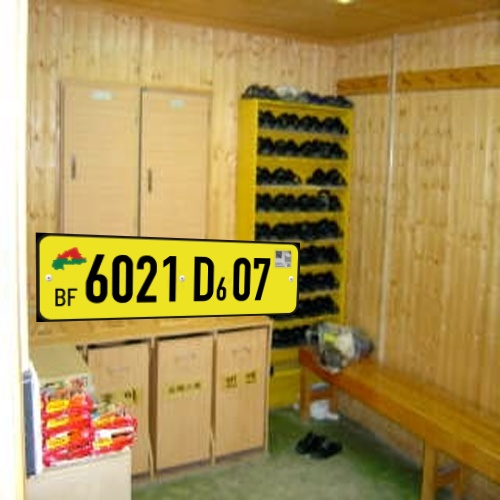plate: (27, 222, 313, 331)
